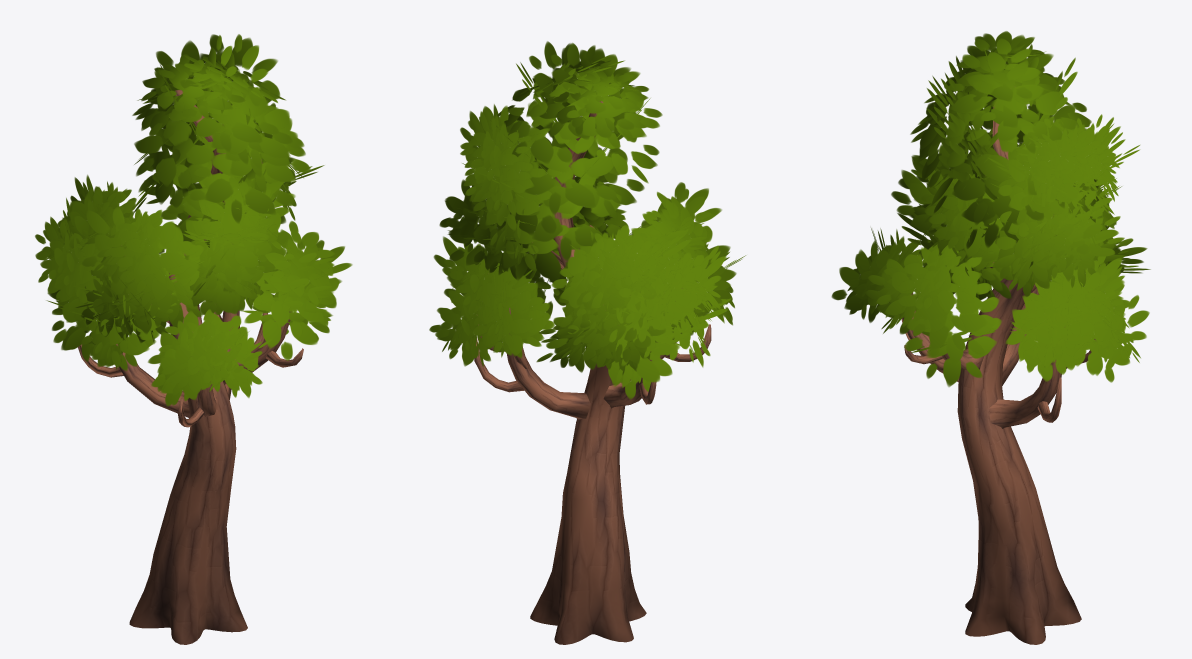
The model's file is broad2.glb.
3 views of the same model, side by side, from view 1: azimuth 30°, elevation 25°; view 2: azimuth 150°, elevation 25°; view 3: azimuth 270°, elevation 25° (orthographic). The views are drawn at different scales.
Parts seen in each view (by area): view 1: CommonTree_2; view 2: CommonTree_2; view 3: CommonTree_2.
Part boxes in pixels (x1,y1,x2,y2): CommonTree_2: (35, 34, 352, 644); CommonTree_2: (429, 41, 745, 644); CommonTree_2: (831, 31, 1150, 644).
Size of the model in its own units: 4.46 by 7.64 by 4.28.
Materials: 2 (2 with a texture image).
